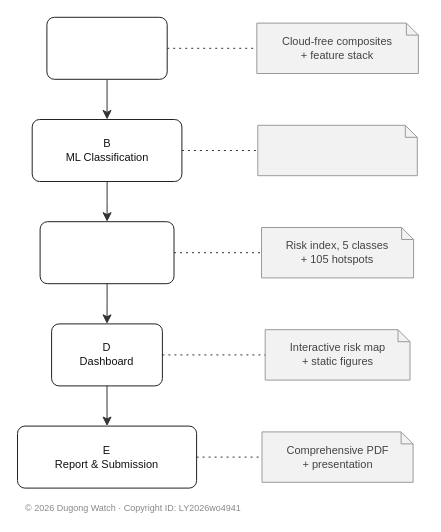
This 441x532 diagram has some shape labels left out. The shapes that lost their labels are listed below. From the top down, each one's centre as x and y in pixels, then its label:
pixel 106 47: A Data & GEE
pixel 337 150: Seagrass map, 85.3% + 2019-2024 change
pixel 106 252: C Risk Modelling
